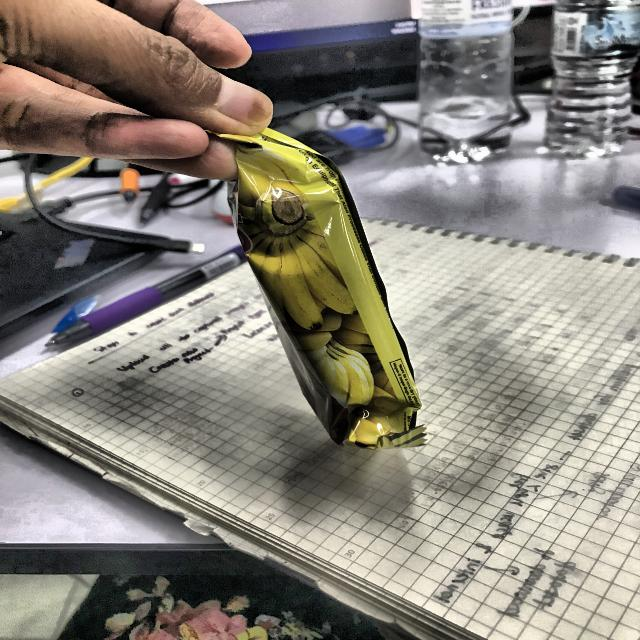Plastic: (231, 131, 430, 449)
